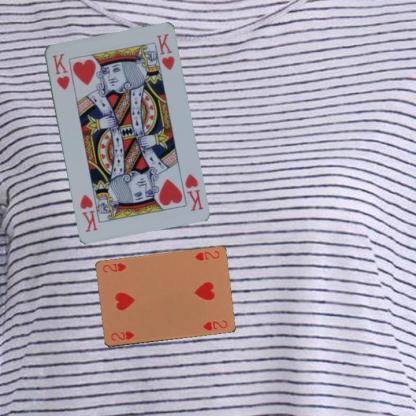2h: (192, 248, 220, 262), (108, 329, 136, 342)
Kh: (182, 170, 204, 212), (49, 50, 71, 91)
